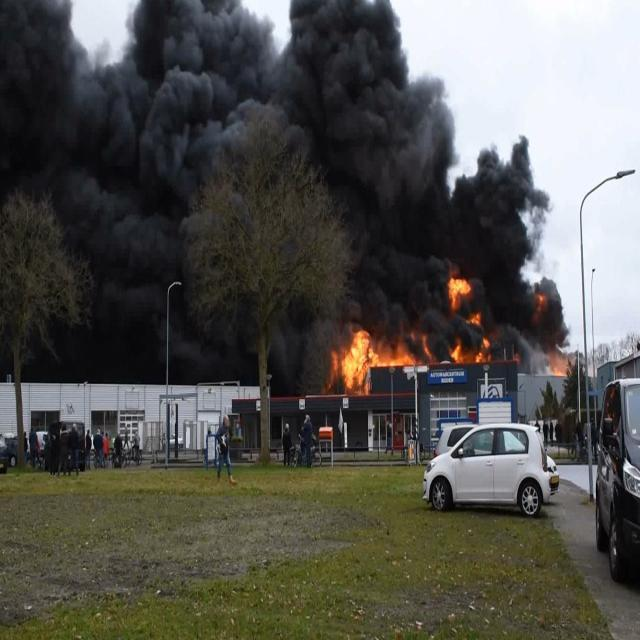Fire: (330, 329, 415, 391), (448, 277, 470, 309), (476, 338, 490, 362), (422, 334, 432, 358), (450, 345, 462, 364), (466, 312, 482, 326), (536, 294, 546, 312), (553, 367, 568, 378)
Smoke: (0, 0, 591, 400)
